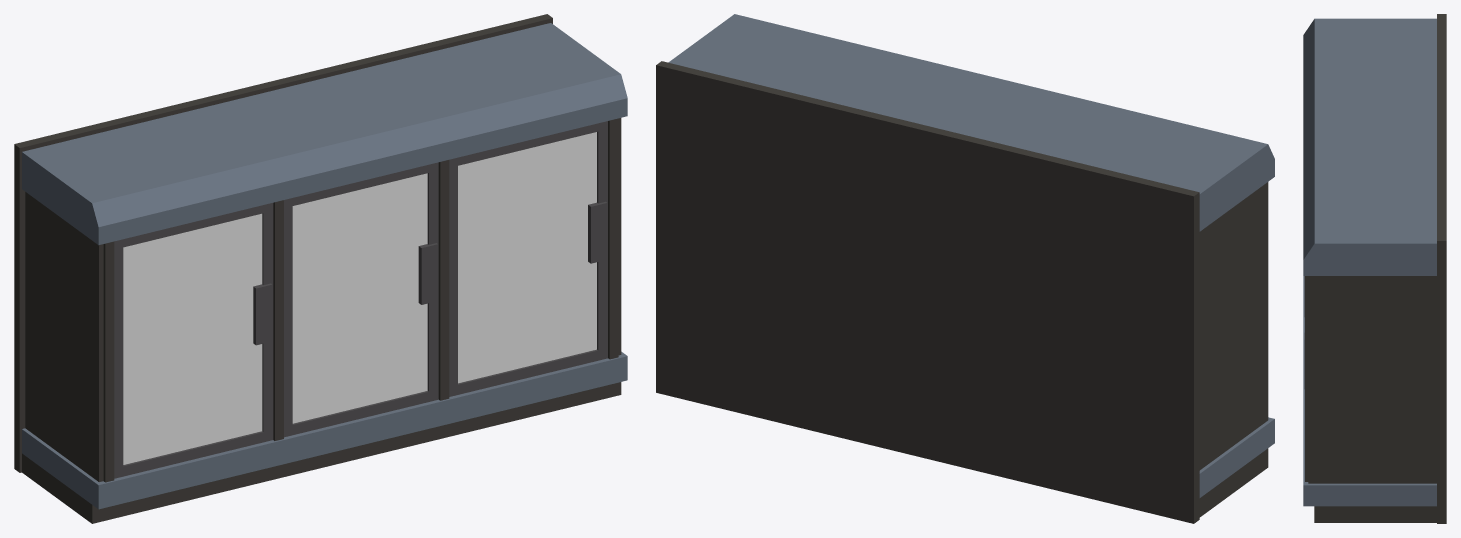
The model's file is ShopFridge_01.fbx.
3 views of the same model, side by side, from view 1: azimuth 30°, elevation 25°; view 2: azimuth 150°, elevation 25°; view 3: azimuth 270°, elevation 25° (orthographic). The views are drawn at different scales.
Visible parts, largest first — view 1: Case, Door_1, Door_3, Door_2; view 2: Case; view 3: Case.
Part boxes in pixels (box(x1,y1,x2,y2)): Case: box(14, 14, 627, 523); Door_1: box(114, 203, 273, 478); Door_3: box(449, 121, 607, 396); Door_2: box(284, 162, 438, 437); Case: box(656, 14, 1274, 523); Case: box(1303, 14, 1446, 523).
Size of the model in its own units: 394 by 229 by 105.
